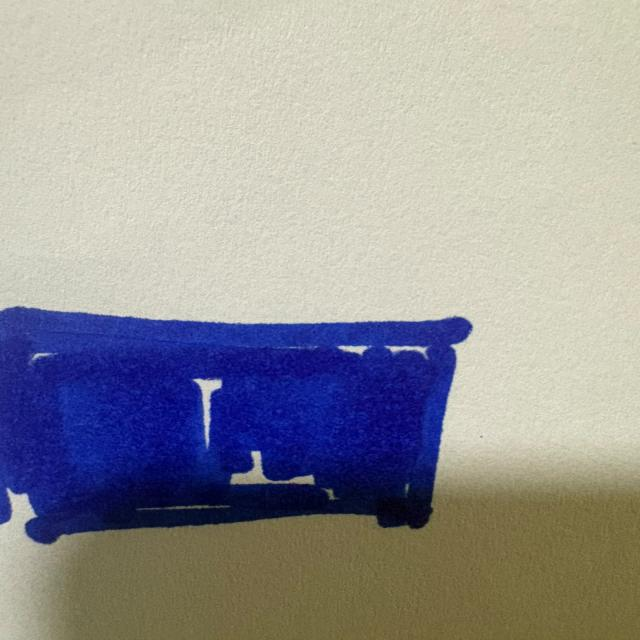Rectangle: (0, 308, 471, 543)
